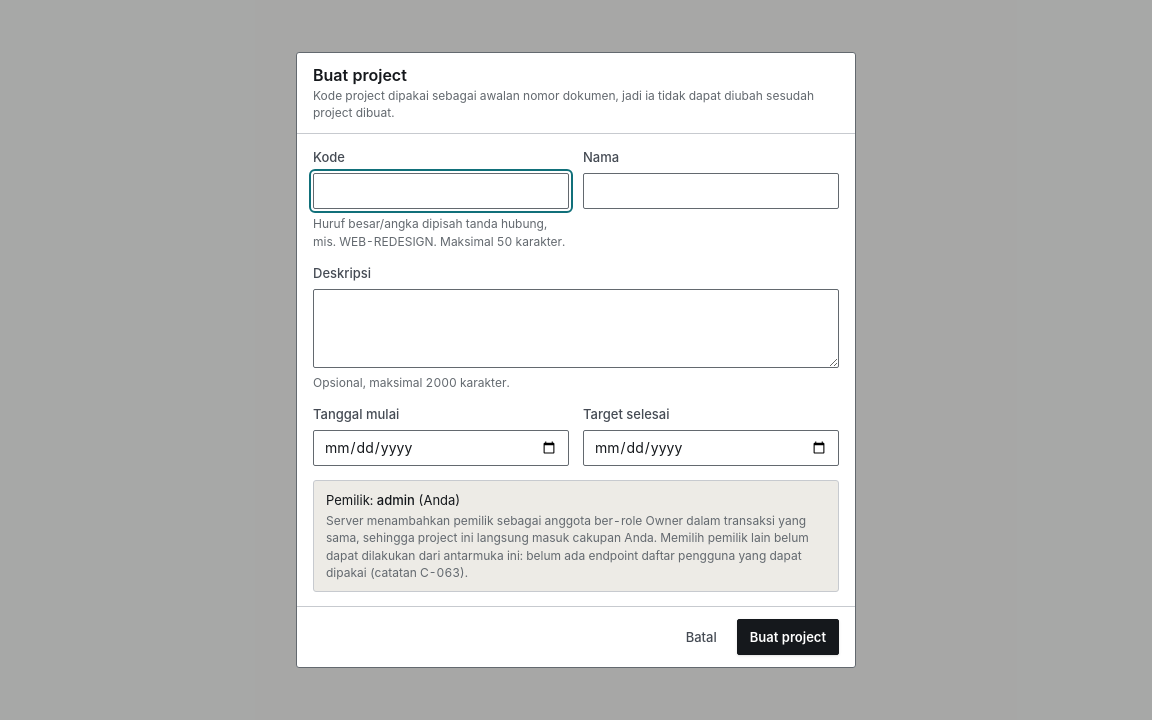
it: dialog buat project › menolak target selesai yang mendahului tanggal mulai
This screenshot has width=1152, height=720.
Type "WEB" into the field labelled "Kode" at [441, 191], box [313, 173, 569, 209]
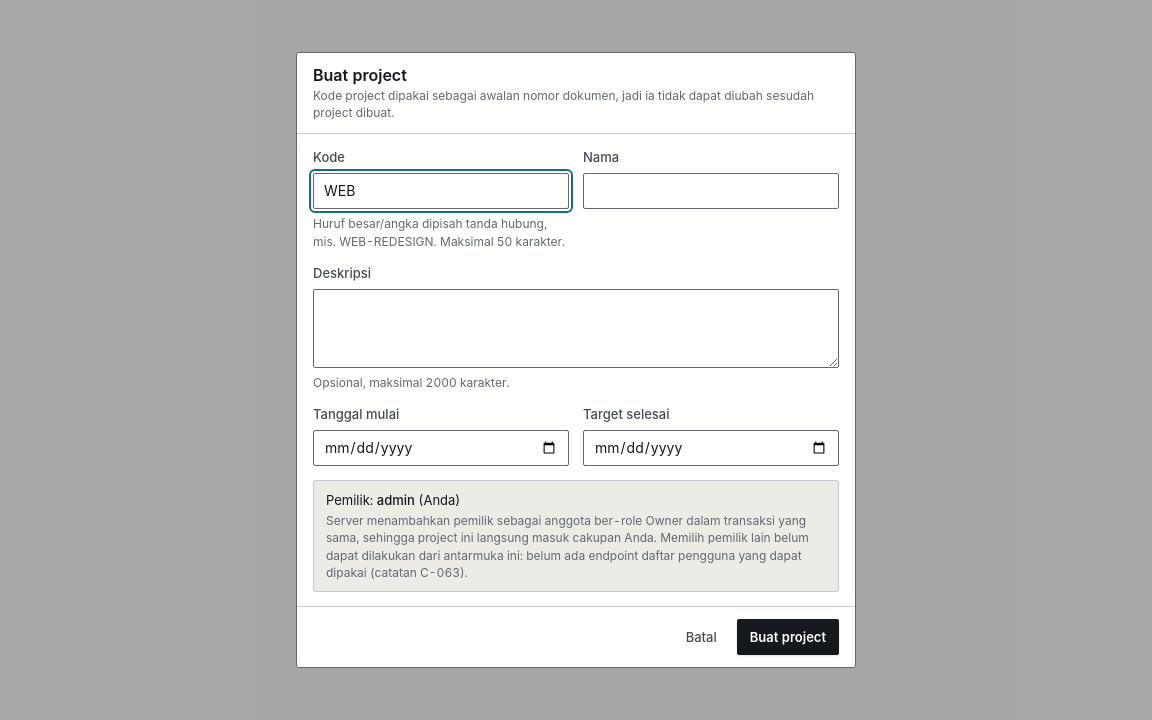
Type "Website Redesign" into the field labelled "Nama" at [711, 191], box [583, 173, 839, 209]
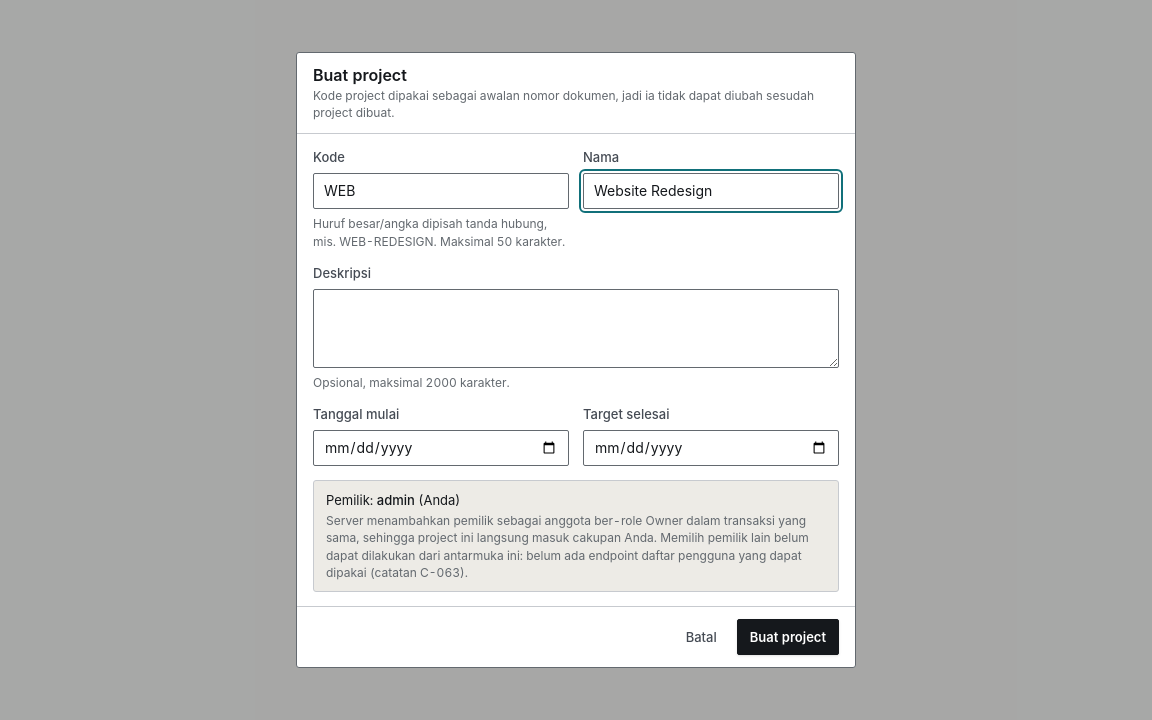
Type "2026-10-10" into the date field labelled "Tanggal mulai" at [441, 448], box [313, 430, 569, 466]
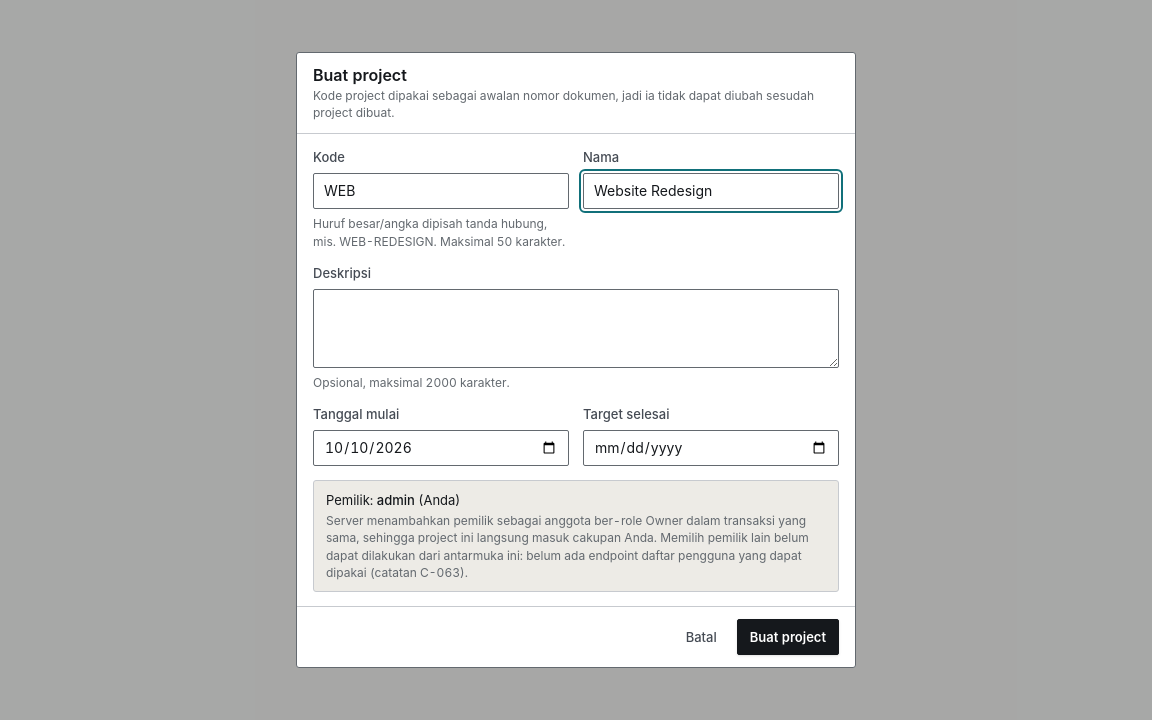
Type "2026-10-01" into the date field labelled "Target selesai" at [711, 448], box [583, 430, 839, 466]
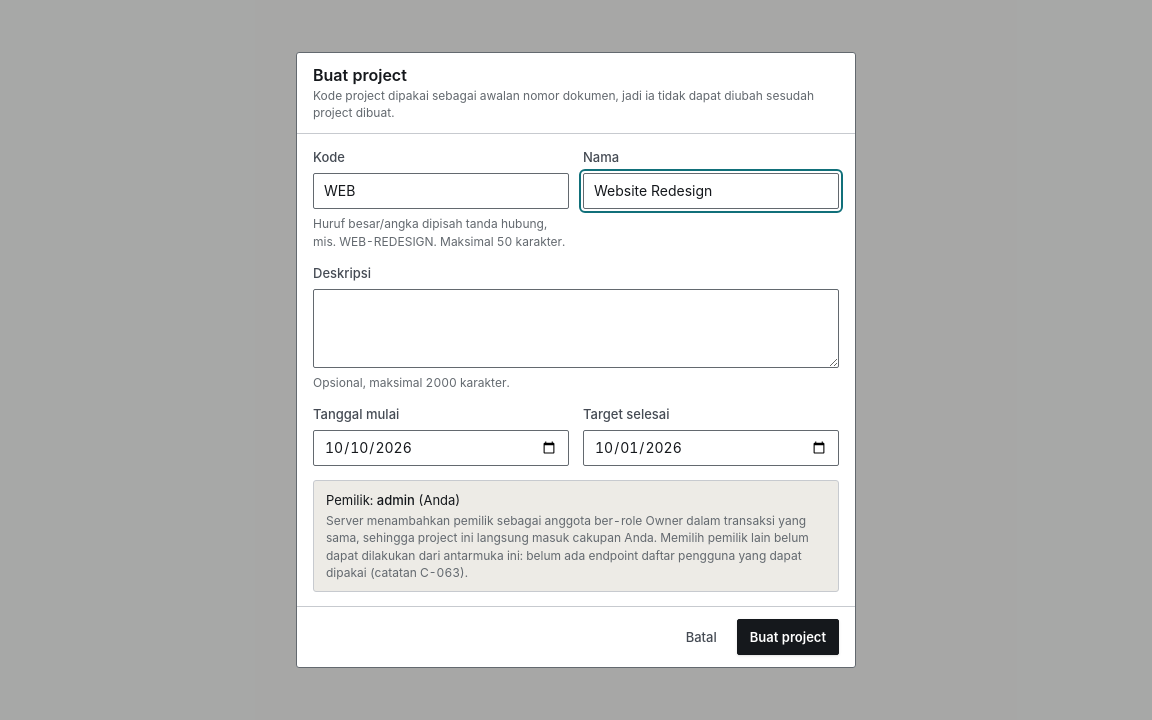
Click the button "Buat project" at [788, 637], box [737, 619, 839, 655]
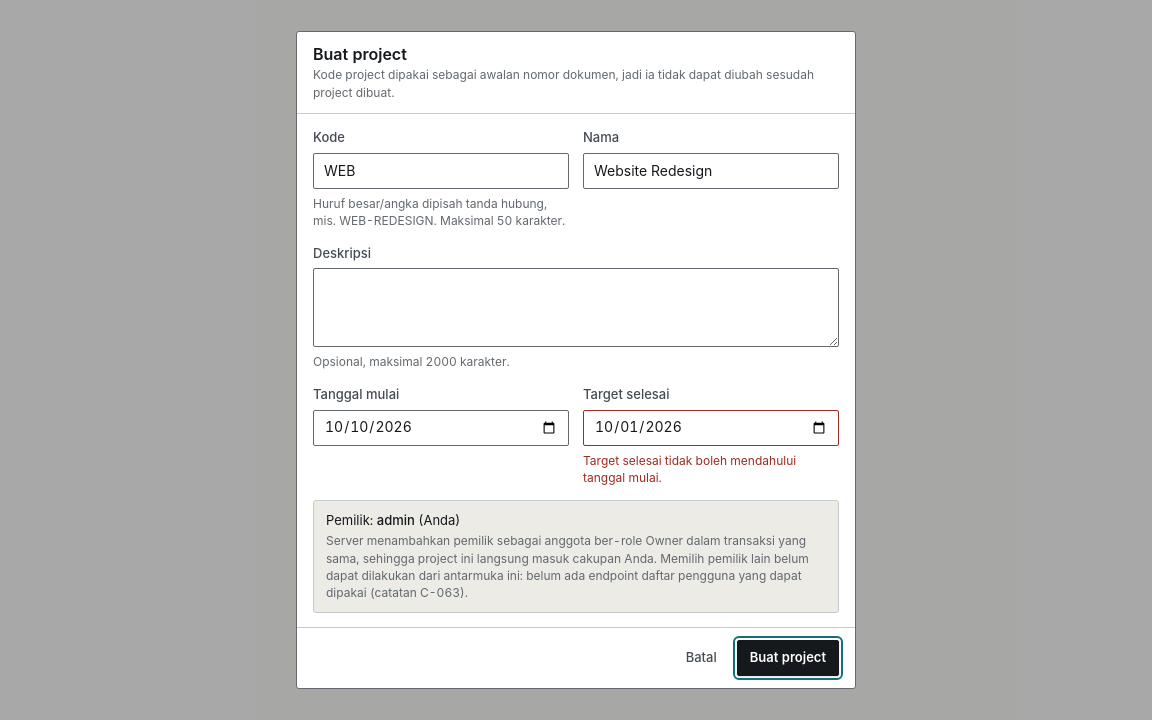
Expected: the text "Target selesai tidak boleh mendahului tanggal mulai." is shown, [583, 453, 796, 485]
